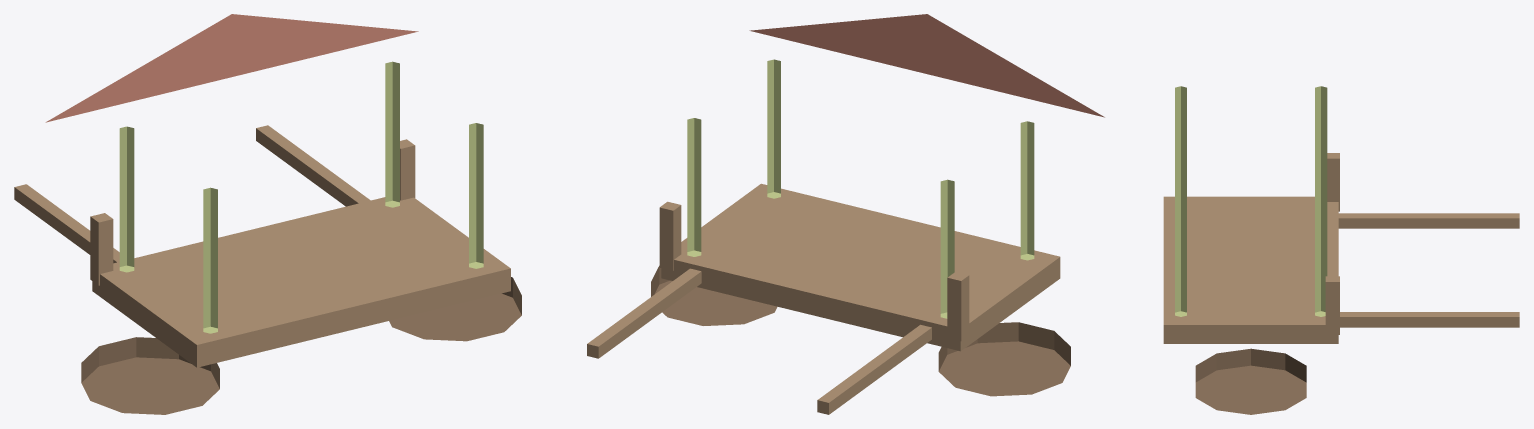
File: cart_gerobak.glb
The picture shows the model from 3 angles, left to right: view 1: azimuth 30°, elevation 25°; view 2: azimuth 150°, elevation 25°; view 3: azimuth 270°, elevation 25°; orthographic projection. The views are drawn at different scales.
Visible parts, largest first — view 1: cart_gerobak; view 2: cart_gerobak; view 3: cart_gerobak.
Boxes of the visible parts, <box> form: cart_gerobak: <box>14,14,521,414</box>; cart_gerobak: <box>587,14,1104,414</box>; cart_gerobak: <box>1163,86,1519,414</box>.
Size of the model in its own units: 3.5 by 2.25 by 3.3.
